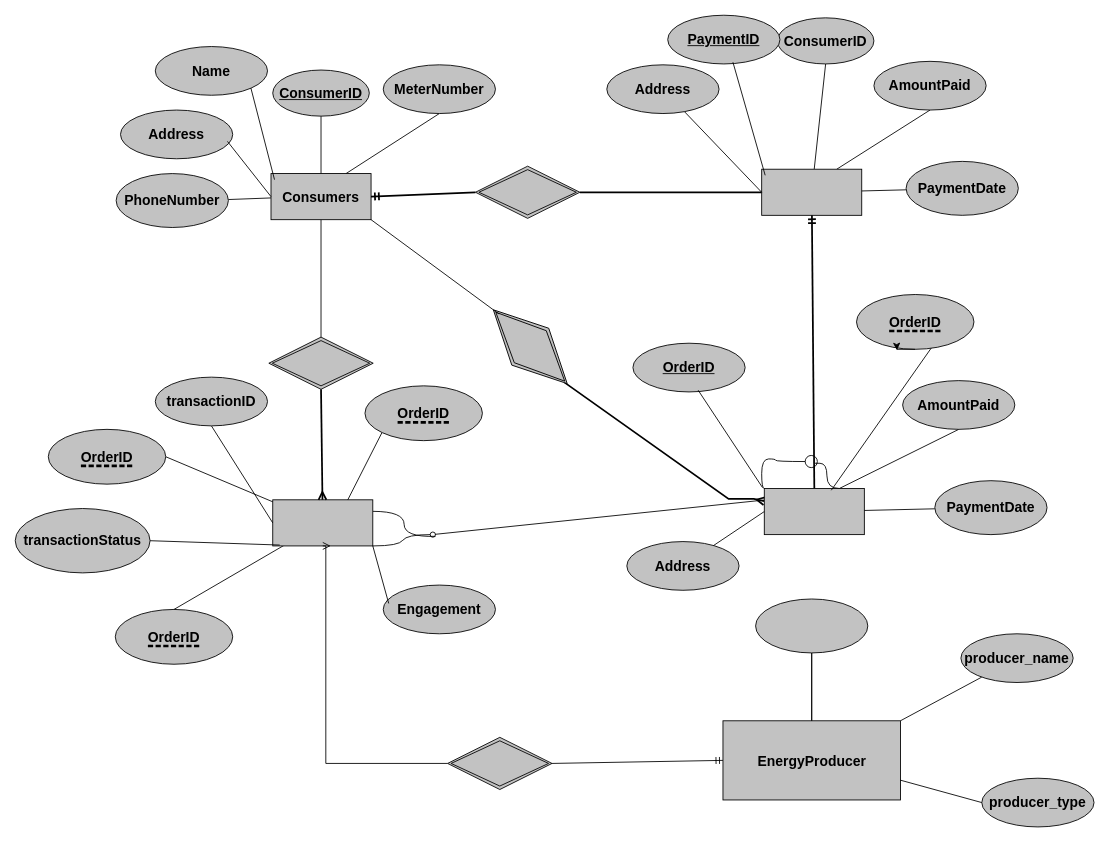
Some shapes in this 1109 by 842 pixel diagram are drawn without their labels. The centre of each missing label's shape, as x and y in pixels:
initiate: pixel 320 362
makes: pixel 527 191
Orders: pixel 813 511
Payments: pixel 811 191
places: pixel 530 346
ProducerID: pixel 811 625
recieve: pixel 499 763
Transaction: pixel 322 522
